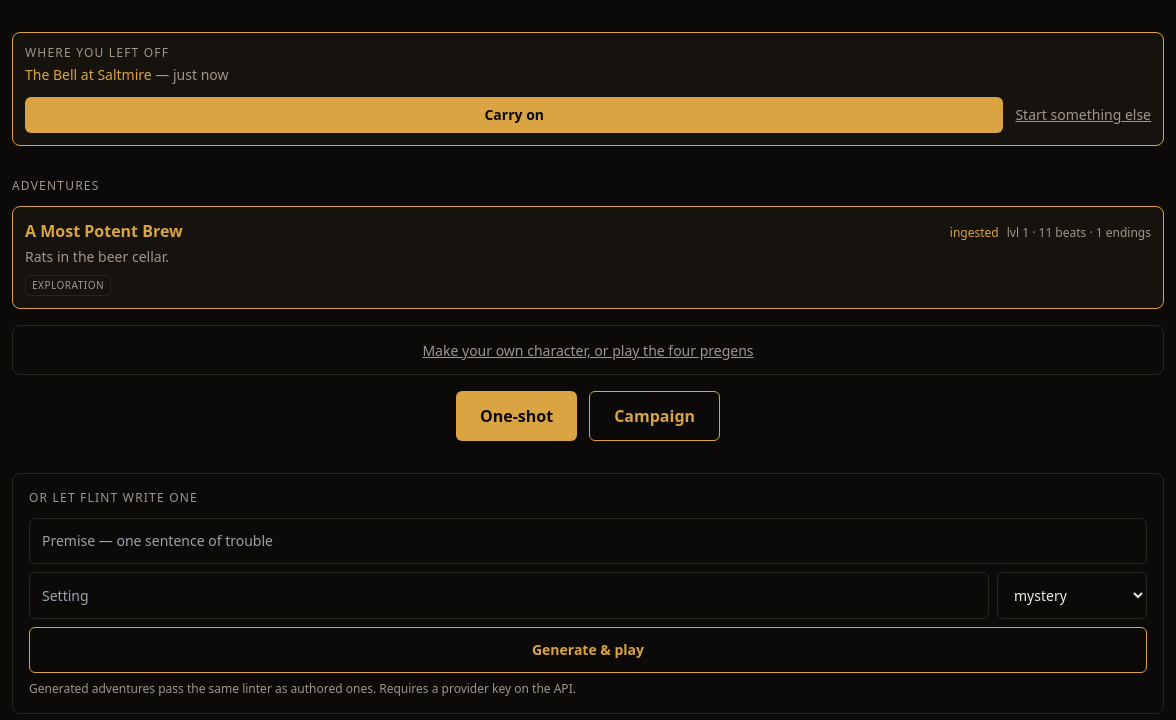
Test: picking a run back up › carries on into the session it was in
Click the button "Carry on" at (514, 115), box [25,97,1003,133]
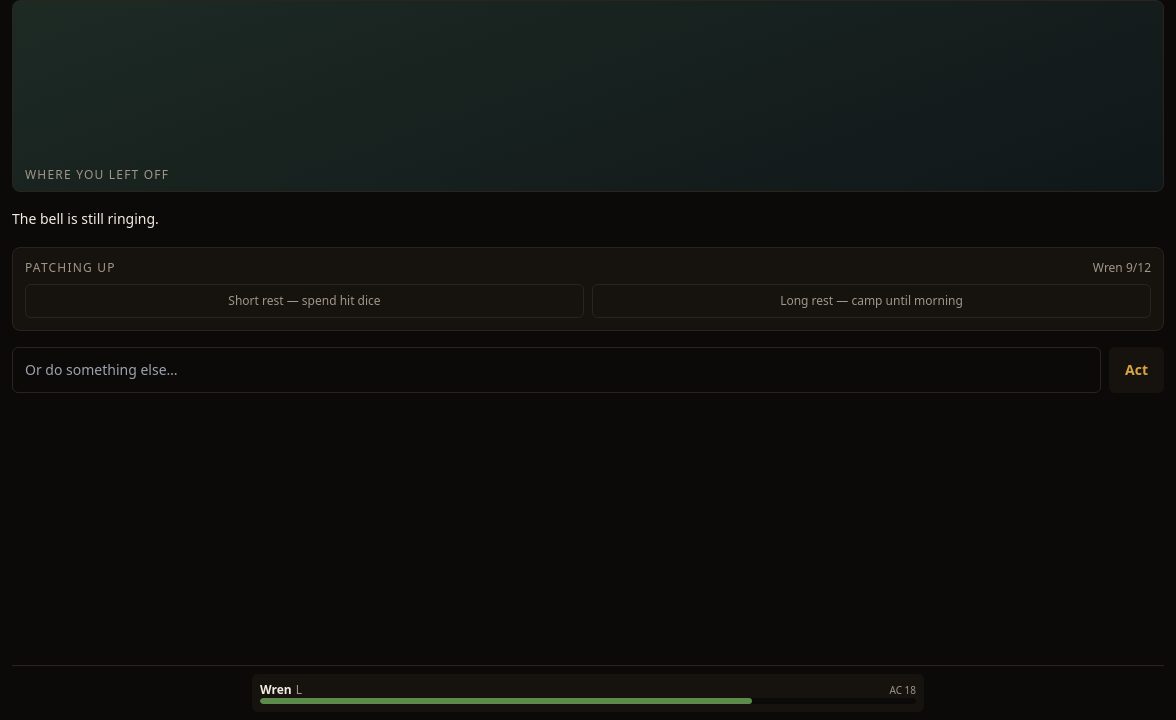
Now the text "The bell is still ringing." is shown, box [12,209,159,228]
